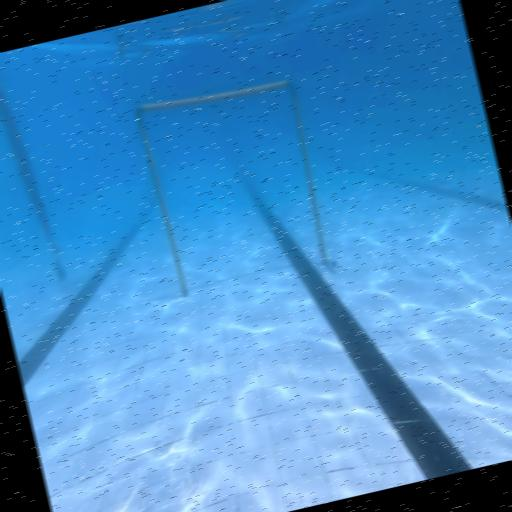gate: (134, 69, 338, 306)
